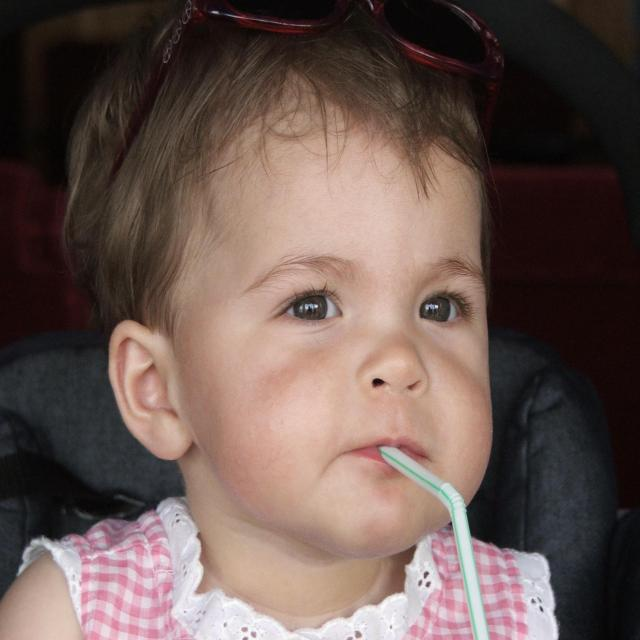no-glass: (275, 285, 464, 326)
